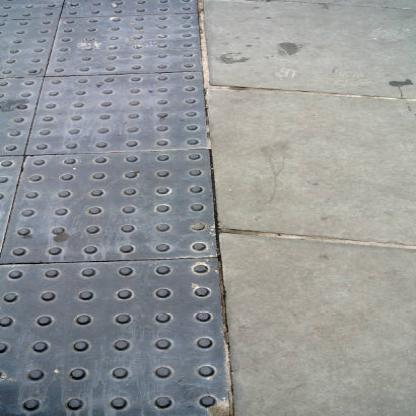podotacti: (1, 2, 231, 415)
